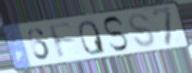6: (27, 27, 51, 62)
7: (150, 6, 175, 48)
F: (47, 21, 78, 61)
Q: (77, 19, 107, 56)
S: (128, 11, 157, 49), (102, 15, 130, 53)
